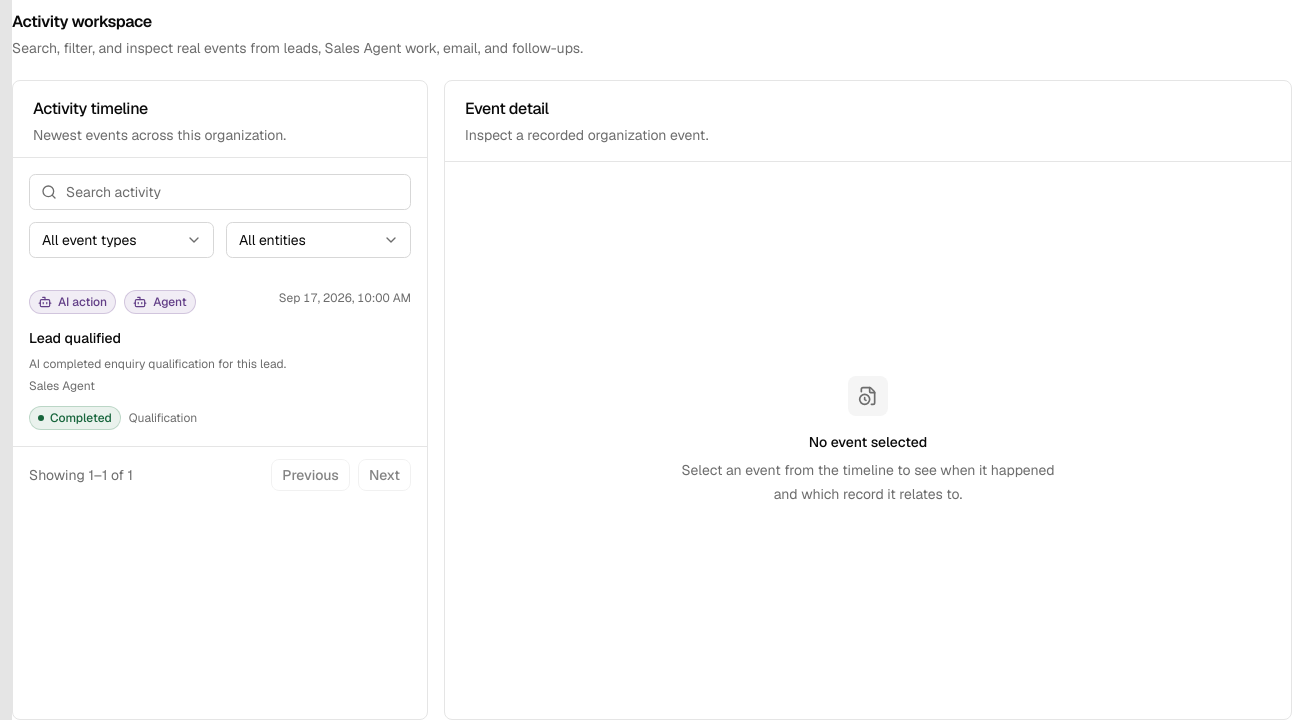
Scenario: Activity page › shows detail errors and retries the detail request
The width and height of the screenshot is (1292, 720).
(page scrolled)
Click the button "Lead qualified" at (220, 360), box [13,274,427,446]
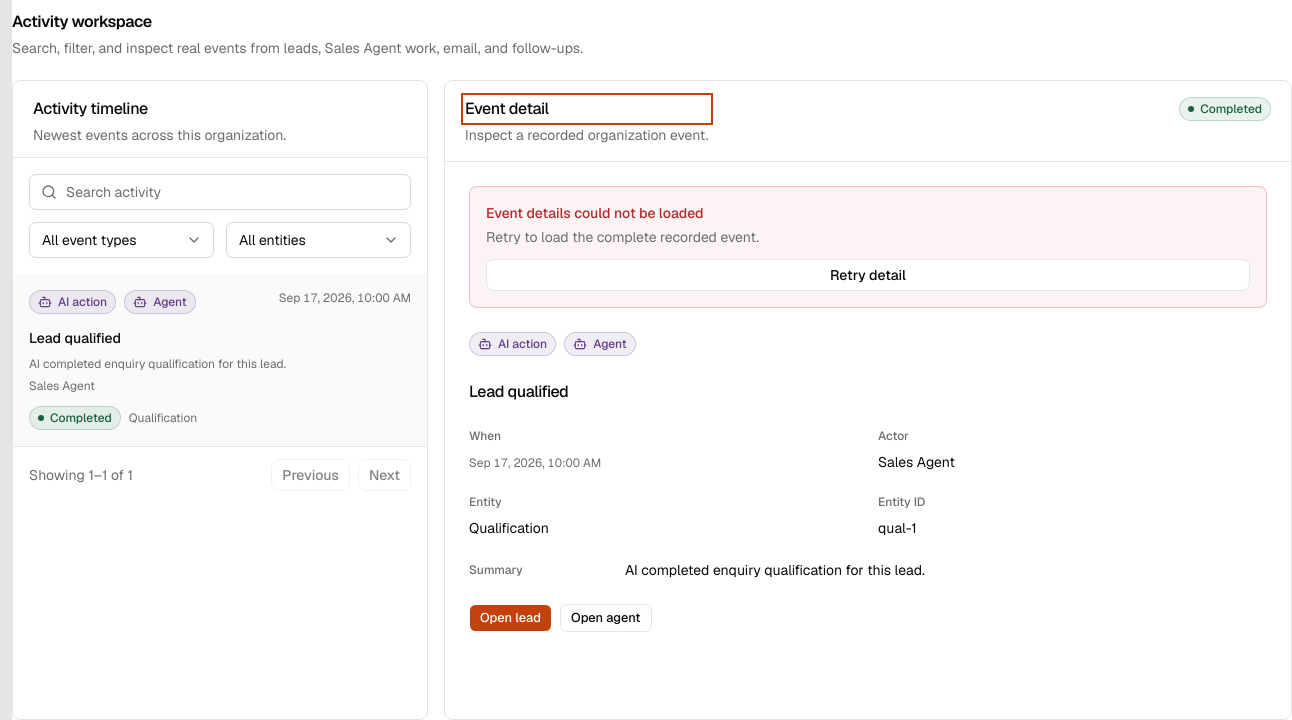
Expected: the message shows "Event details could not be loaded", [486,204,704,222]
Click the button "Retry detail" at (868, 275), box [486,259,1250,291]
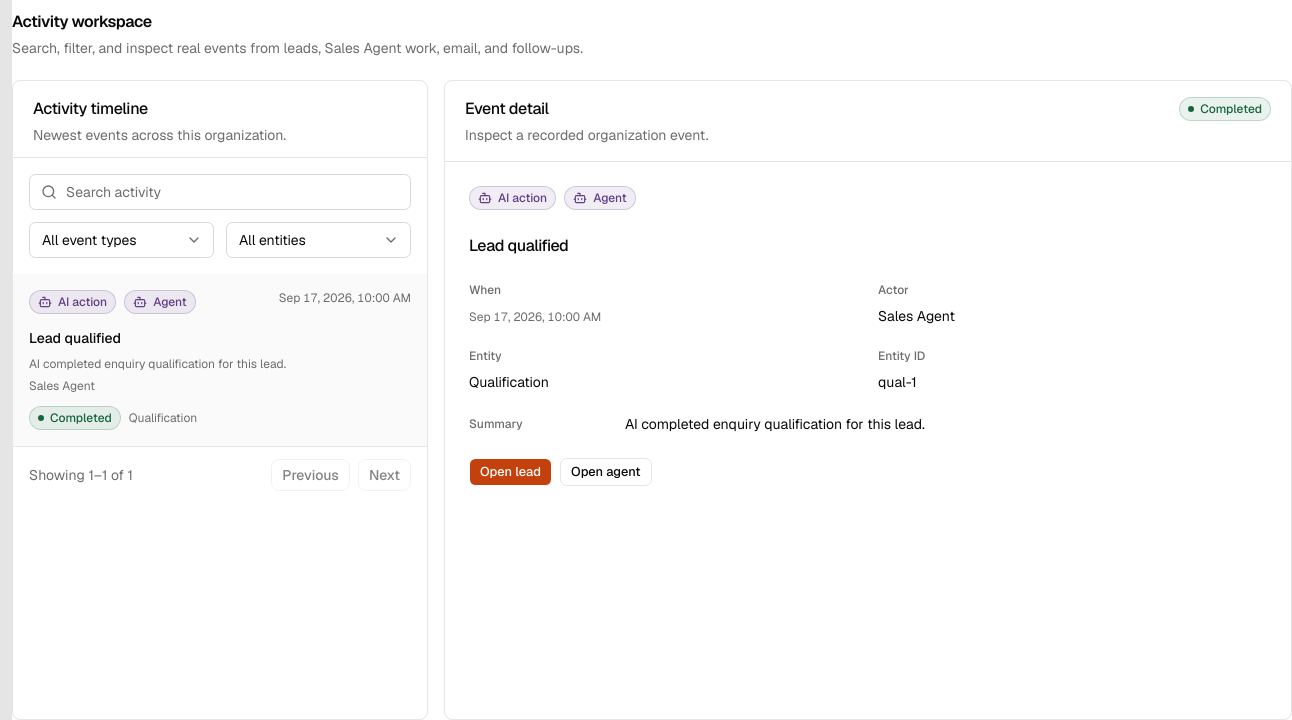
Expected: the text "AI completed enquiry qualification for this lead." below "qual-1" is shown, [625,415,925,433]
Expected: the message is gone
